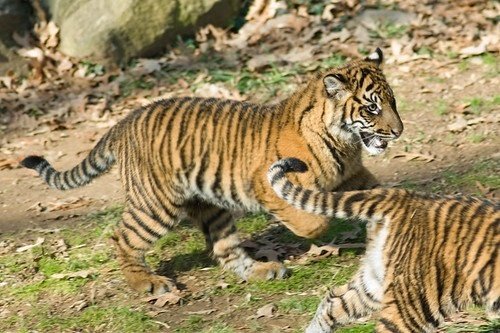tigre: (27, 45, 404, 289), (263, 155, 495, 333)
